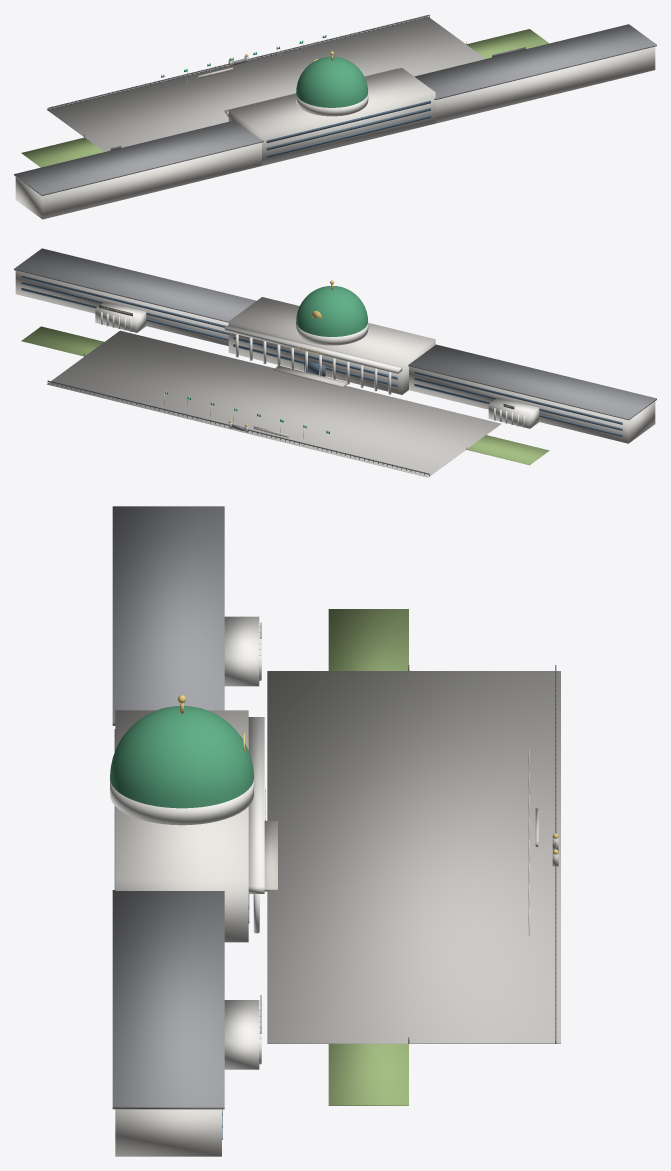
File: national_assembly.glb
3 views of the same model, one above another, from view 1: azimuth 30°, elevation 25°; view 2: azimuth 150°, elevation 25°; view 3: azimuth 270°, elevation 25° (orthographic). The views are drawn at different scales.
Visible parts, largest first — view 1: BLD_national_assembly; view 2: BLD_national_assembly; view 3: BLD_national_assembly.
Part boxes in pixels (x1=…): BLD_national_assembly: x1=14, y1=14, x2=656, y2=219; BLD_national_assembly: x1=14, y1=248, x2=656, y2=477; BLD_national_assembly: x1=110, y1=506, x2=560, y2=1156.
Bounding box in the file's own units: 532 × 67.1 × 169.
